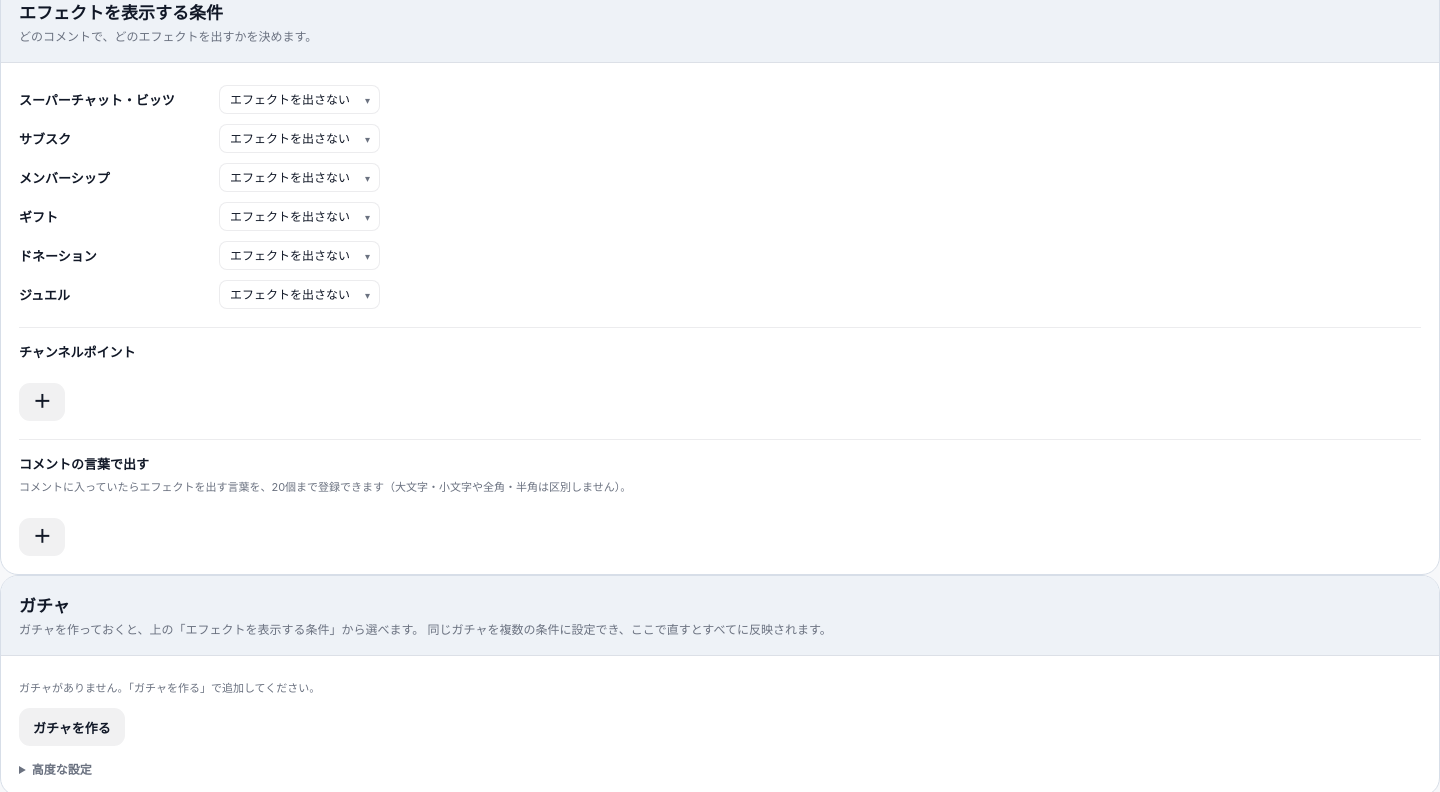
Test: GachaPrizeTable（063a） › ⚠⚠ 「景品を追加」を押すだけで行が足せる（＝『条件を追加』に相当する操作が無い）
Click the button "ガチャを作る" at [72, 727], box 19,708 -> 125,746
(page scrolled)
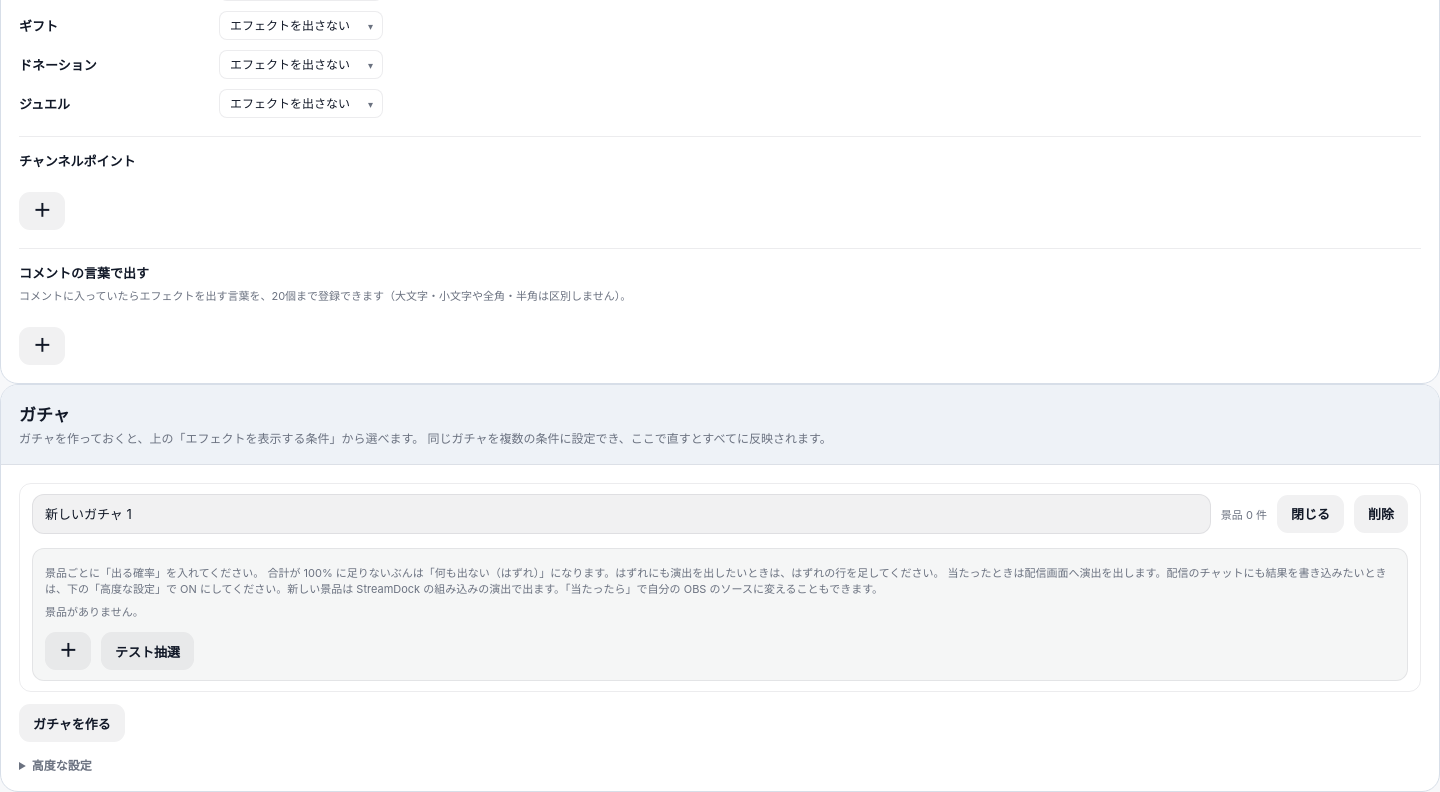
Click the button "＋" below "景品がありません。" at [68, 651], box 45,632 -> 91,670
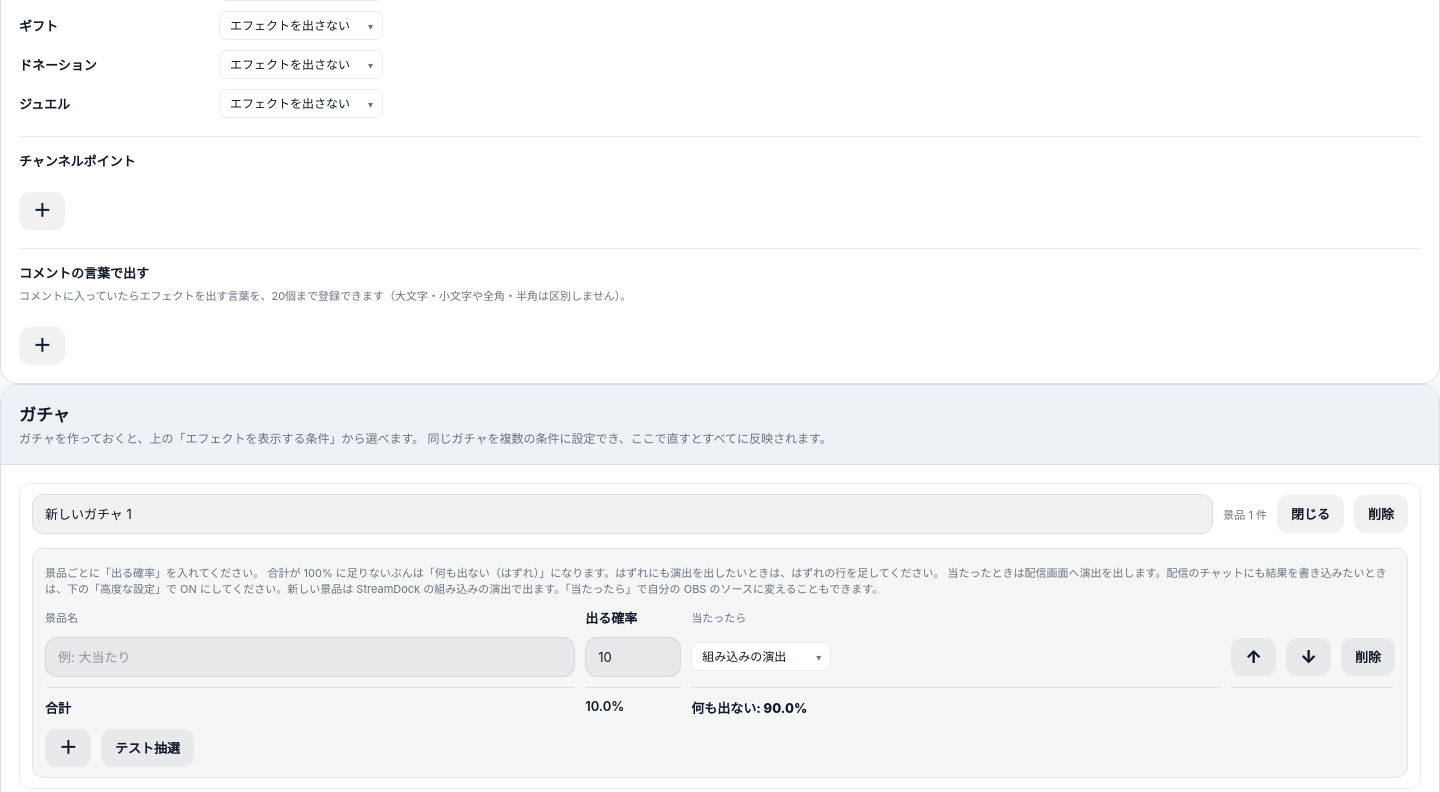
Click the button "＋" below "景品名" at [68, 748], box 45,728 -> 91,766
(page scrolled)
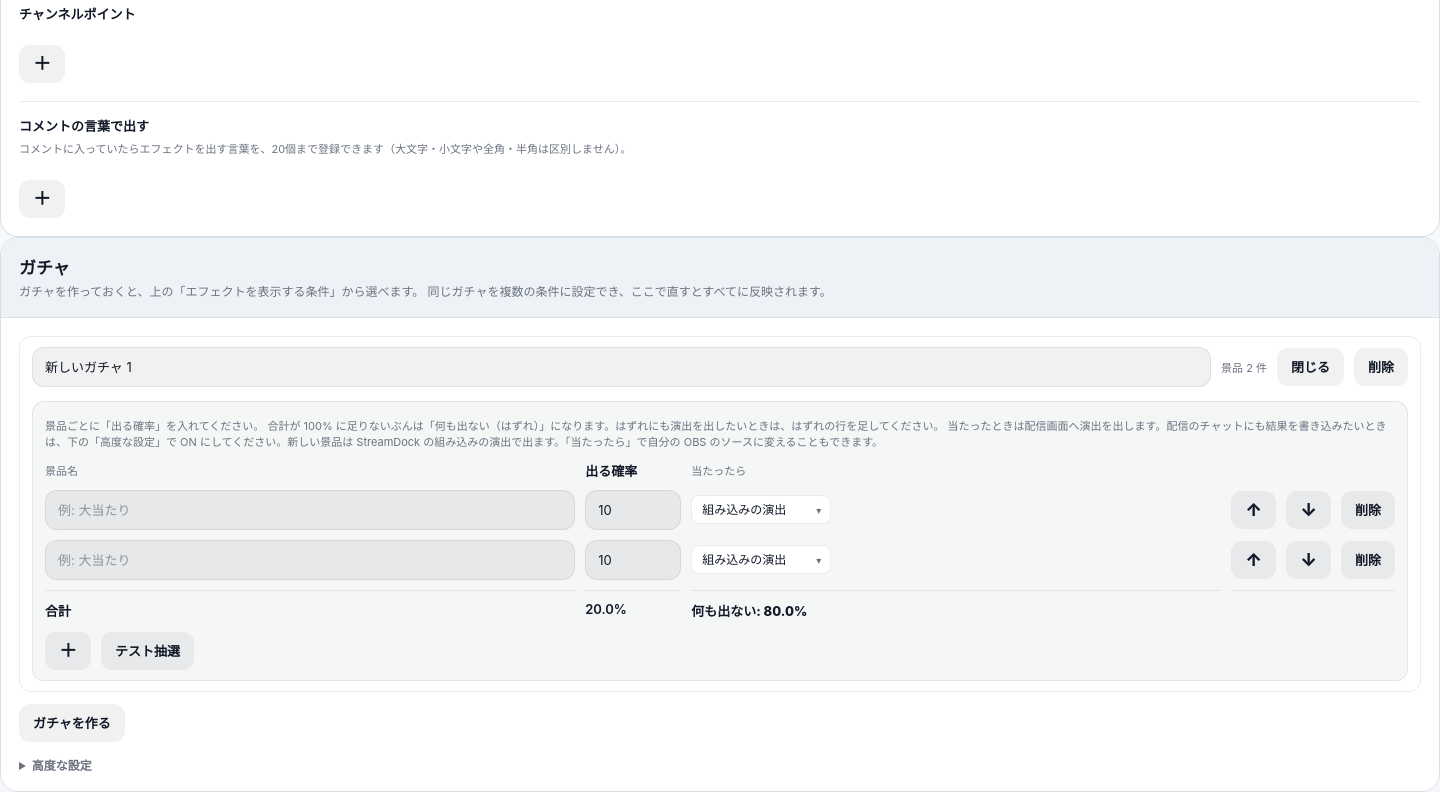
Click the button "＋" below "景品名" at [68, 650], box 45,632 -> 91,670
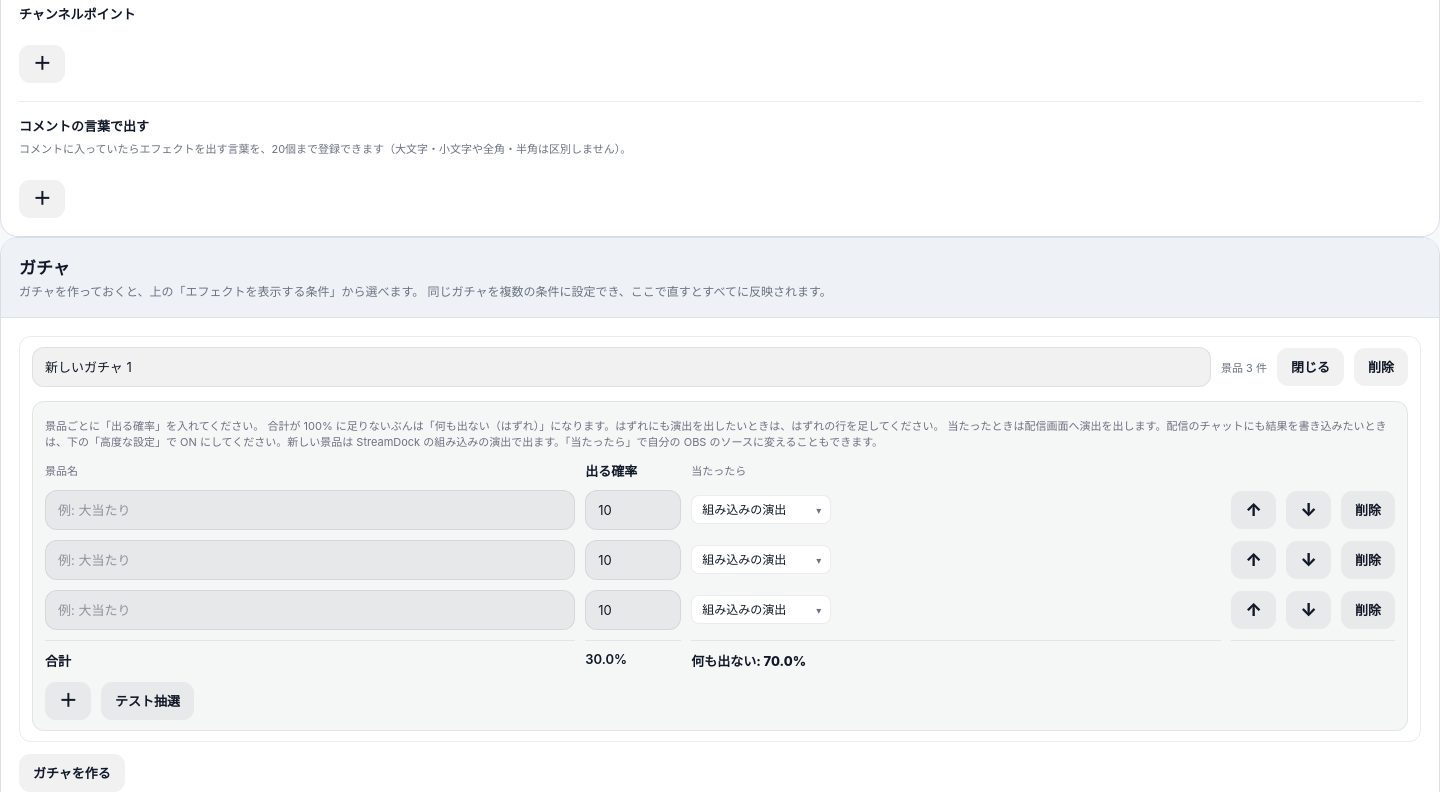
Now the text "何も出ない: 70.0%" is shown, box 691,640 -> 1221,670
